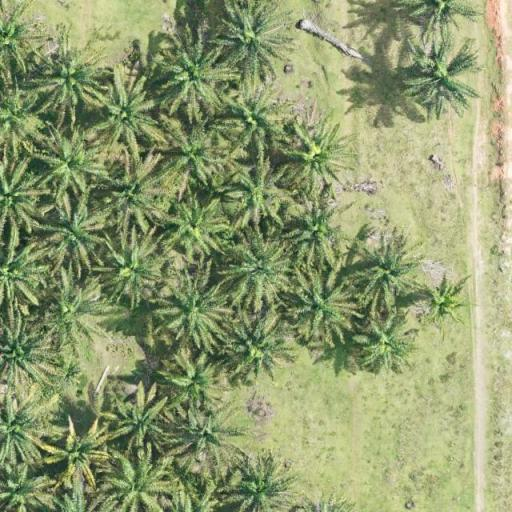Ganoderma: (292, 128, 342, 178), (52, 429, 101, 479), (423, 280, 462, 322)
